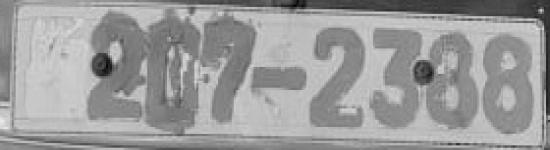-: (251, 63, 308, 94)
2: (84, 8, 145, 130), (306, 19, 369, 134), (145, 9, 201, 134)
3: (371, 21, 425, 132)
7: (202, 10, 254, 129)
8: (479, 27, 537, 139), (426, 27, 480, 135)
